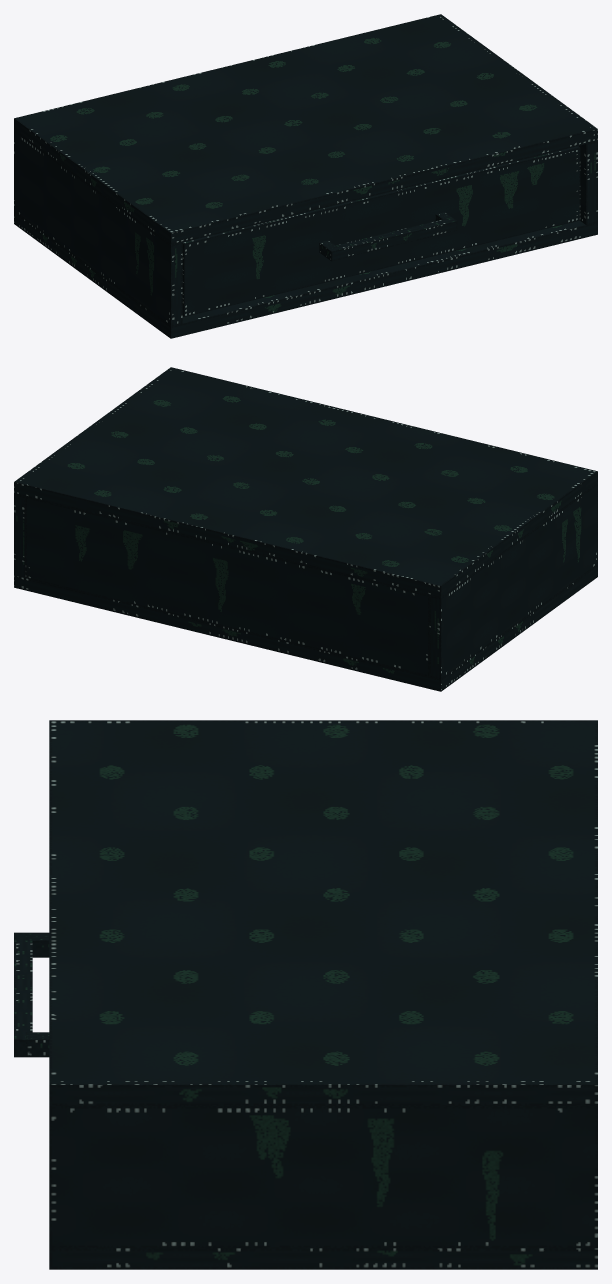
The model's file is SM_Hub_Workbench_Drawer.fbx.
3 views of the same model, one above another, from view 1: azimuth 30°, elevation 25°; view 2: azimuth 150°, elevation 25°; view 3: azimuth 270°, elevation 25° (orthographic). The views are drawn at different scales.
Parts seen in each view (by area): view 1: SM_Hub_Workbench_Drawer_Casing, SM_Hub_Workbench_Drawer_Tray; view 2: SM_Hub_Workbench_Drawer_Casing; view 3: SM_Hub_Workbench_Drawer_Casing, SM_Hub_Workbench_Drawer_Tray.
Boxes of the visible parts, bbox=[...] form: SM_Hub_Workbench_Drawer_Casing: bbox=[14, 14, 597, 338]; SM_Hub_Workbench_Drawer_Tray: bbox=[182, 146, 580, 316]; SM_Hub_Workbench_Drawer_Casing: bbox=[14, 367, 597, 691]; SM_Hub_Workbench_Drawer_Casing: bbox=[49, 720, 597, 1269]; SM_Hub_Workbench_Drawer_Tray: bbox=[14, 932, 49, 1057].
Bounding box in the file's own units: 110 × 26 × 74.5.
2 materials, 2 textured.
